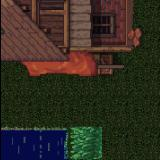Interaction: (0, 116, 77, 138), (54, 139, 78, 160)
Obstacle: (0, 0, 160, 99)
Slow: (0, 133, 63, 160), (70, 127, 102, 160)
